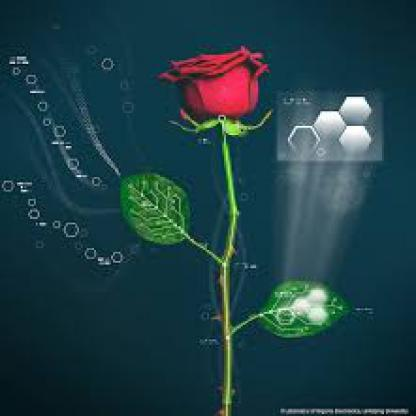Rose-Mawar: (159, 43, 270, 131)
